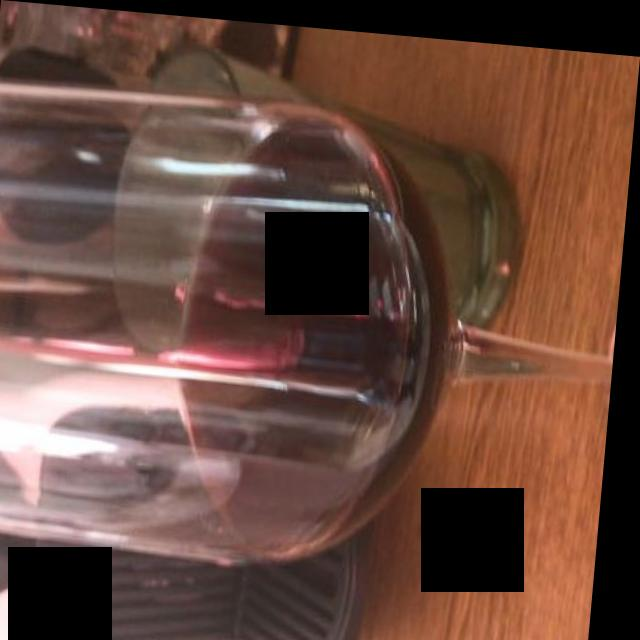wine-red: (172, 100, 448, 571), (164, 124, 461, 542)
